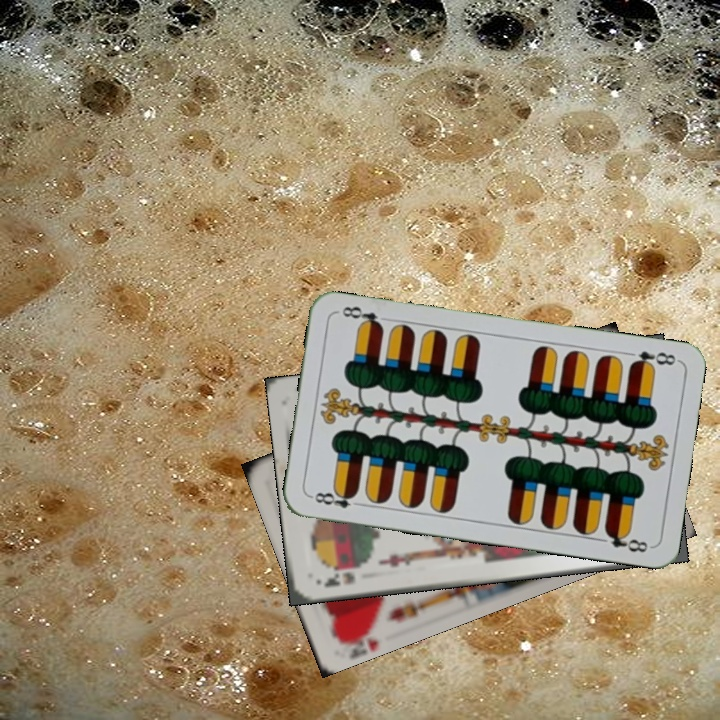E8: (307, 486, 366, 511), (625, 347, 680, 372)
HK: (334, 621, 382, 658)
SK: (320, 562, 363, 590)
